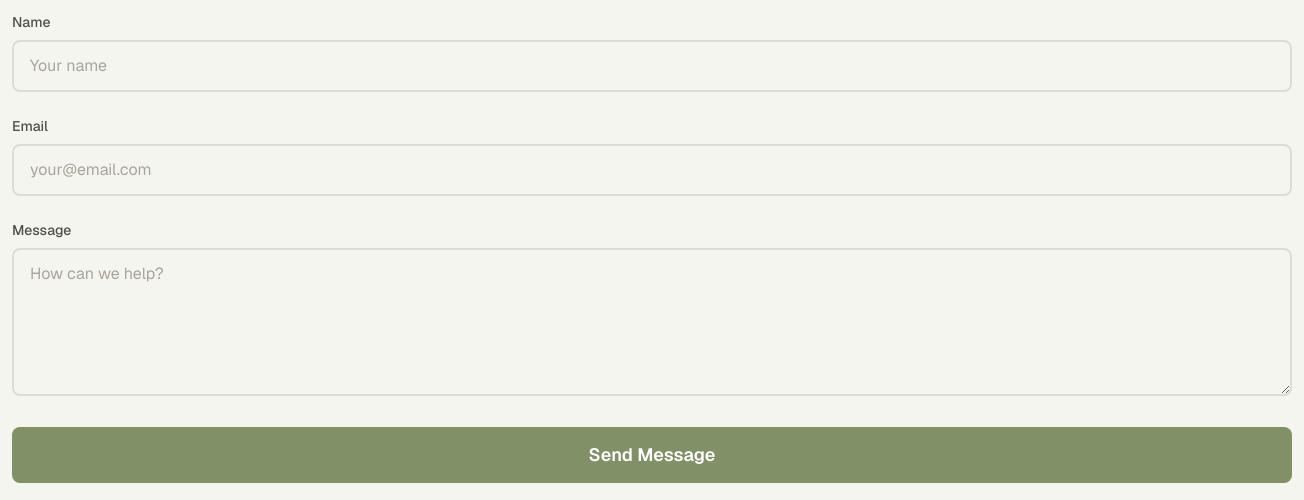
ContactForm › submission › shows loading state during submission
Type "John Doe" into the field labelled "Name". click: [652, 66]
box: [12, 40, 1292, 92]
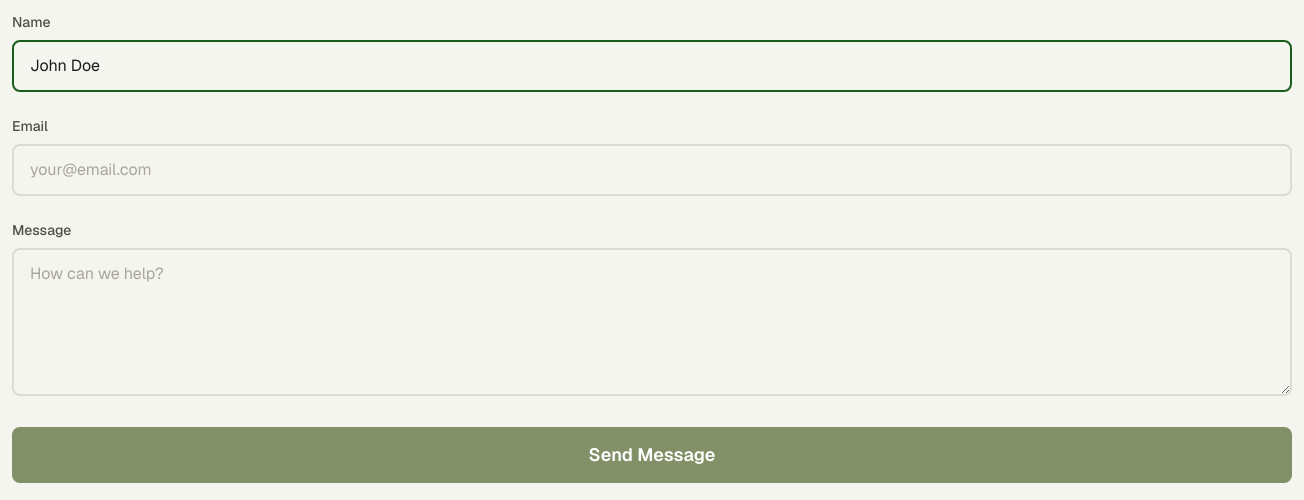
Type "john@example.com" into the field labelled "Email". click: [652, 170]
box: [12, 144, 1292, 196]
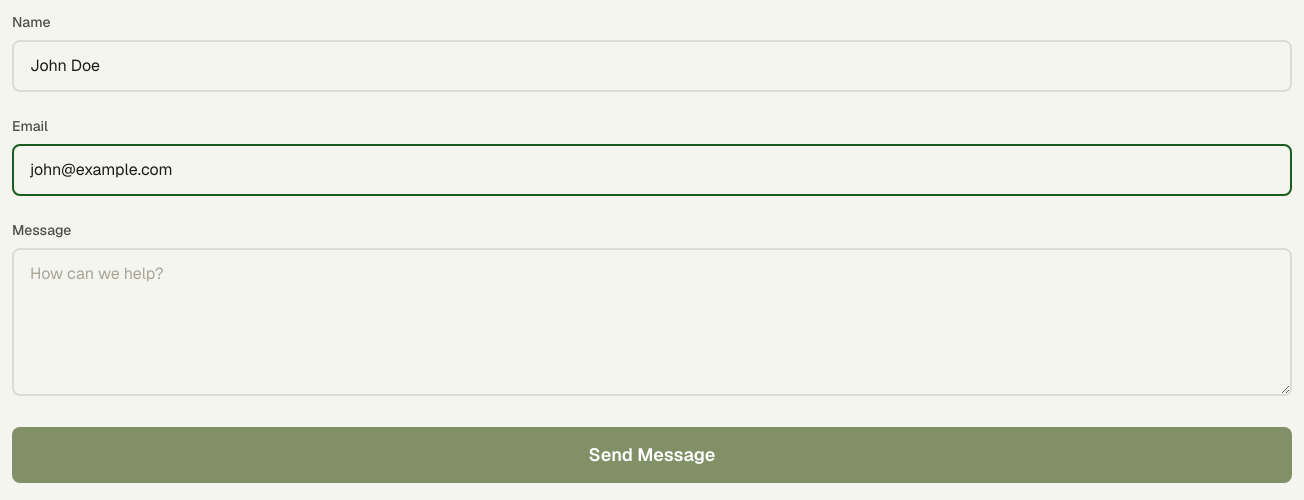
Type "Hello there!" into the text box labelled "Message". click: [652, 322]
box: [12, 248, 1292, 396]
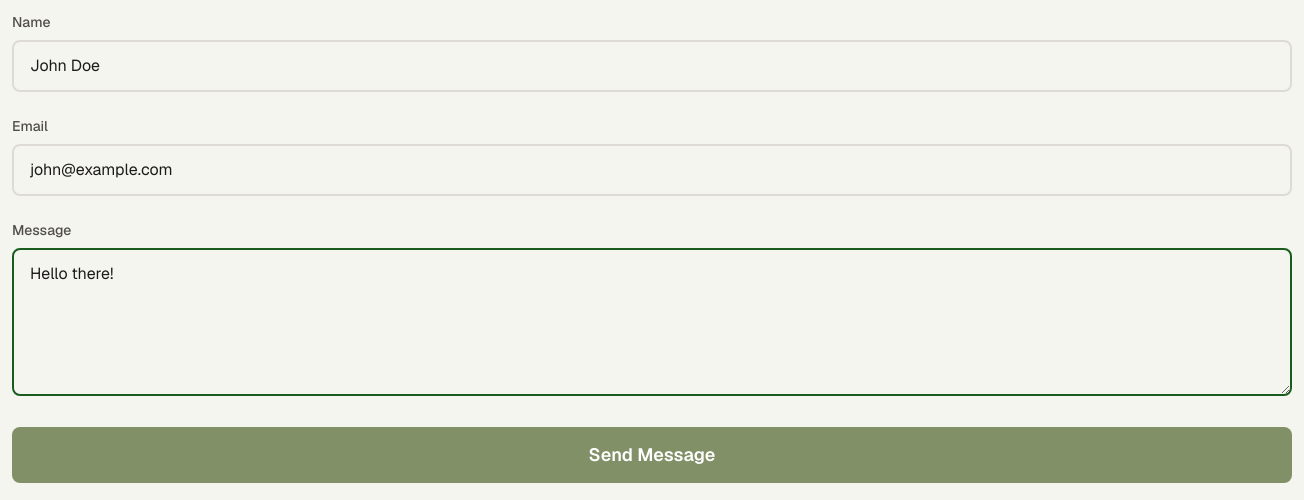
Click the button "Send Message". click: [652, 455]
box: [12, 427, 1292, 483]
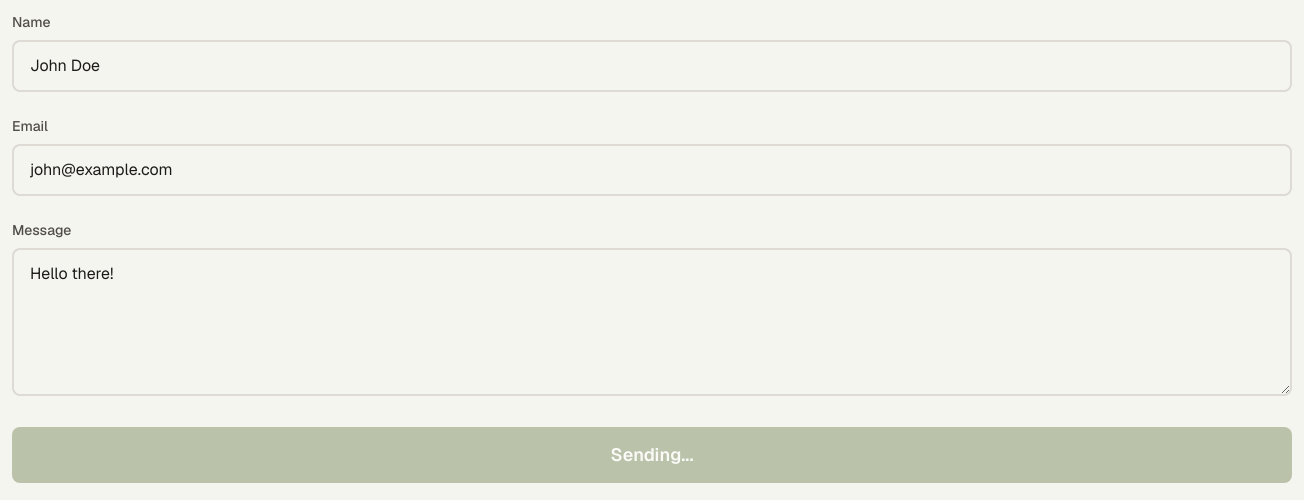
Now the button "Sending..." is shown, box [12, 427, 1292, 483]
